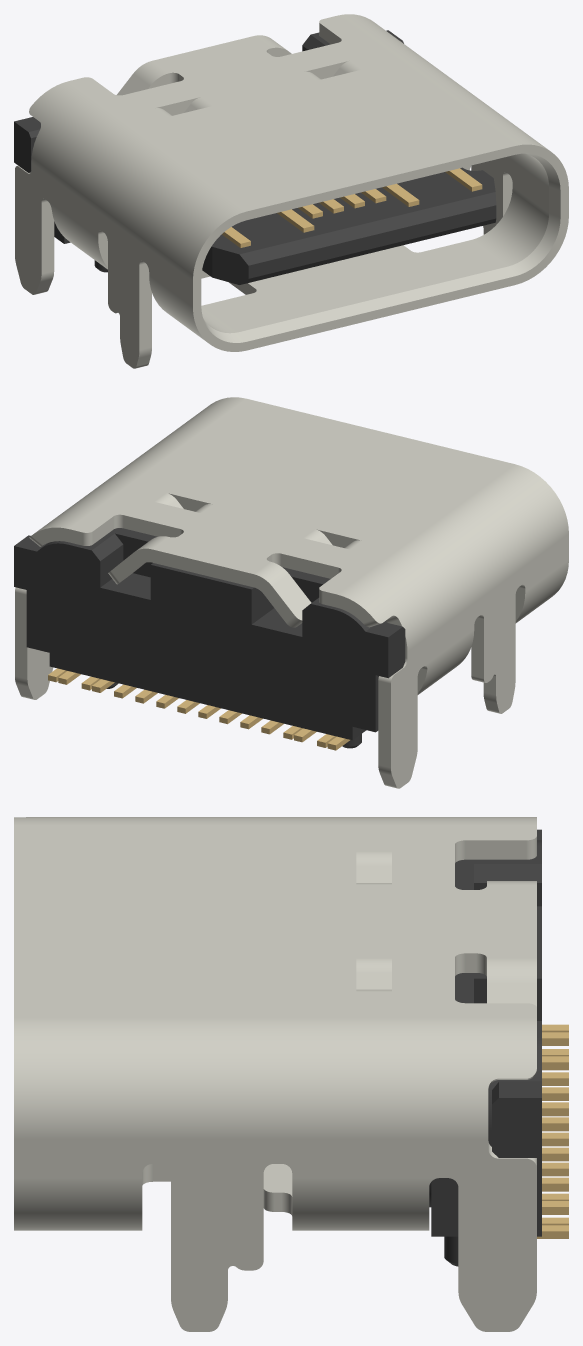
The model's file is Connector_USB_USB_C_Receptacle_GCT_USB4105-xx-A_16P_TopMnt_Horizontal.glb.
The picture shows the model from 3 angles, top to bottom: view 1: azimuth 30°, elevation 25°; view 2: azimuth 150°, elevation 25°; view 3: azimuth 270°, elevation 25°; orthographic projection. The views are drawn at different scales.
Visible parts, largest first — view 1: USB_C_Receptacle_16P_TopMnt_Horizontal_GCT_USB4105-xx-A; view 2: USB_C_Receptacle_16P_TopMnt_Horizontal_GCT_USB4105-xx-A; view 3: USB_C_Receptacle_16P_TopMnt_Horizontal_GCT_USB4105-xx-A.
Boxes of the visible parts, box(x1,y1,x2,y2) form: USB_C_Receptacle_16P_TopMnt_Horizontal_GCT_USB4105-xx-A: box(14, 14, 568, 368); USB_C_Receptacle_16P_TopMnt_Horizontal_GCT_USB4105-xx-A: box(14, 397, 568, 788); USB_C_Receptacle_16P_TopMnt_Horizontal_GCT_USB4105-xx-A: box(14, 817, 568, 1331).
Size of the model in its own units: 0.00894 by 0.00426 by 0.00778.
